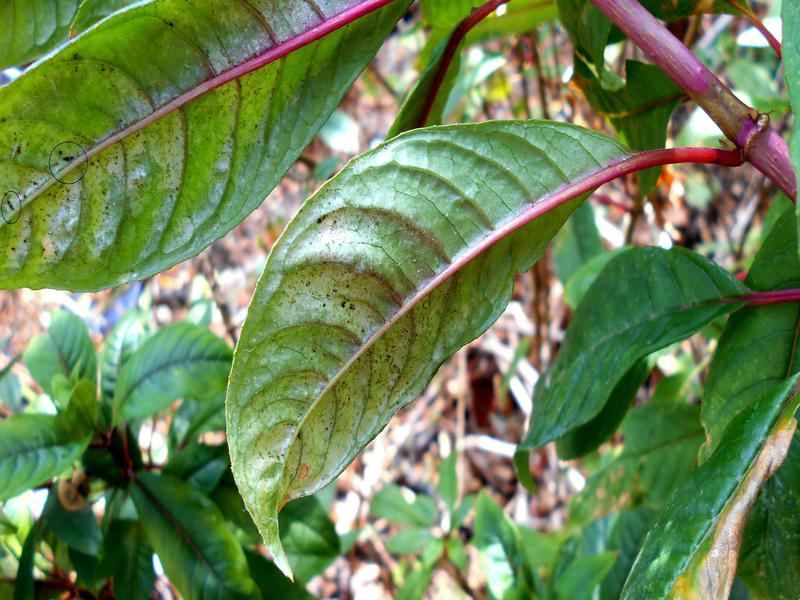Thrips: (295, 241, 467, 357), (19, 387, 139, 551)
